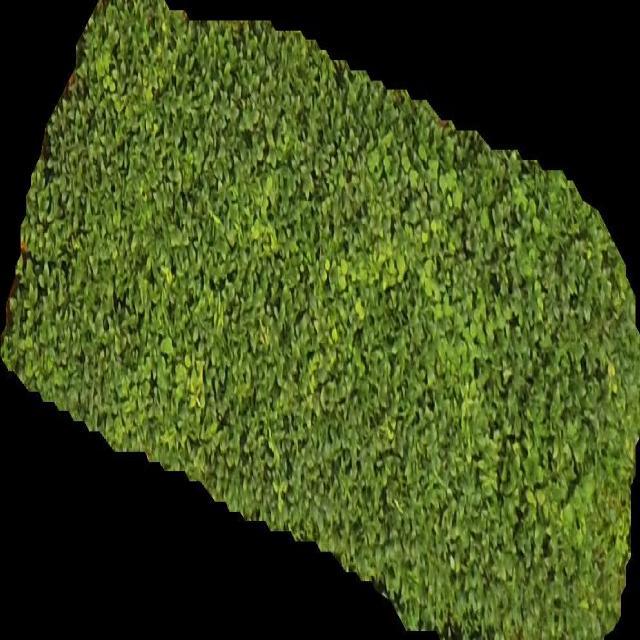Soybean: (1, 0, 640, 640)
